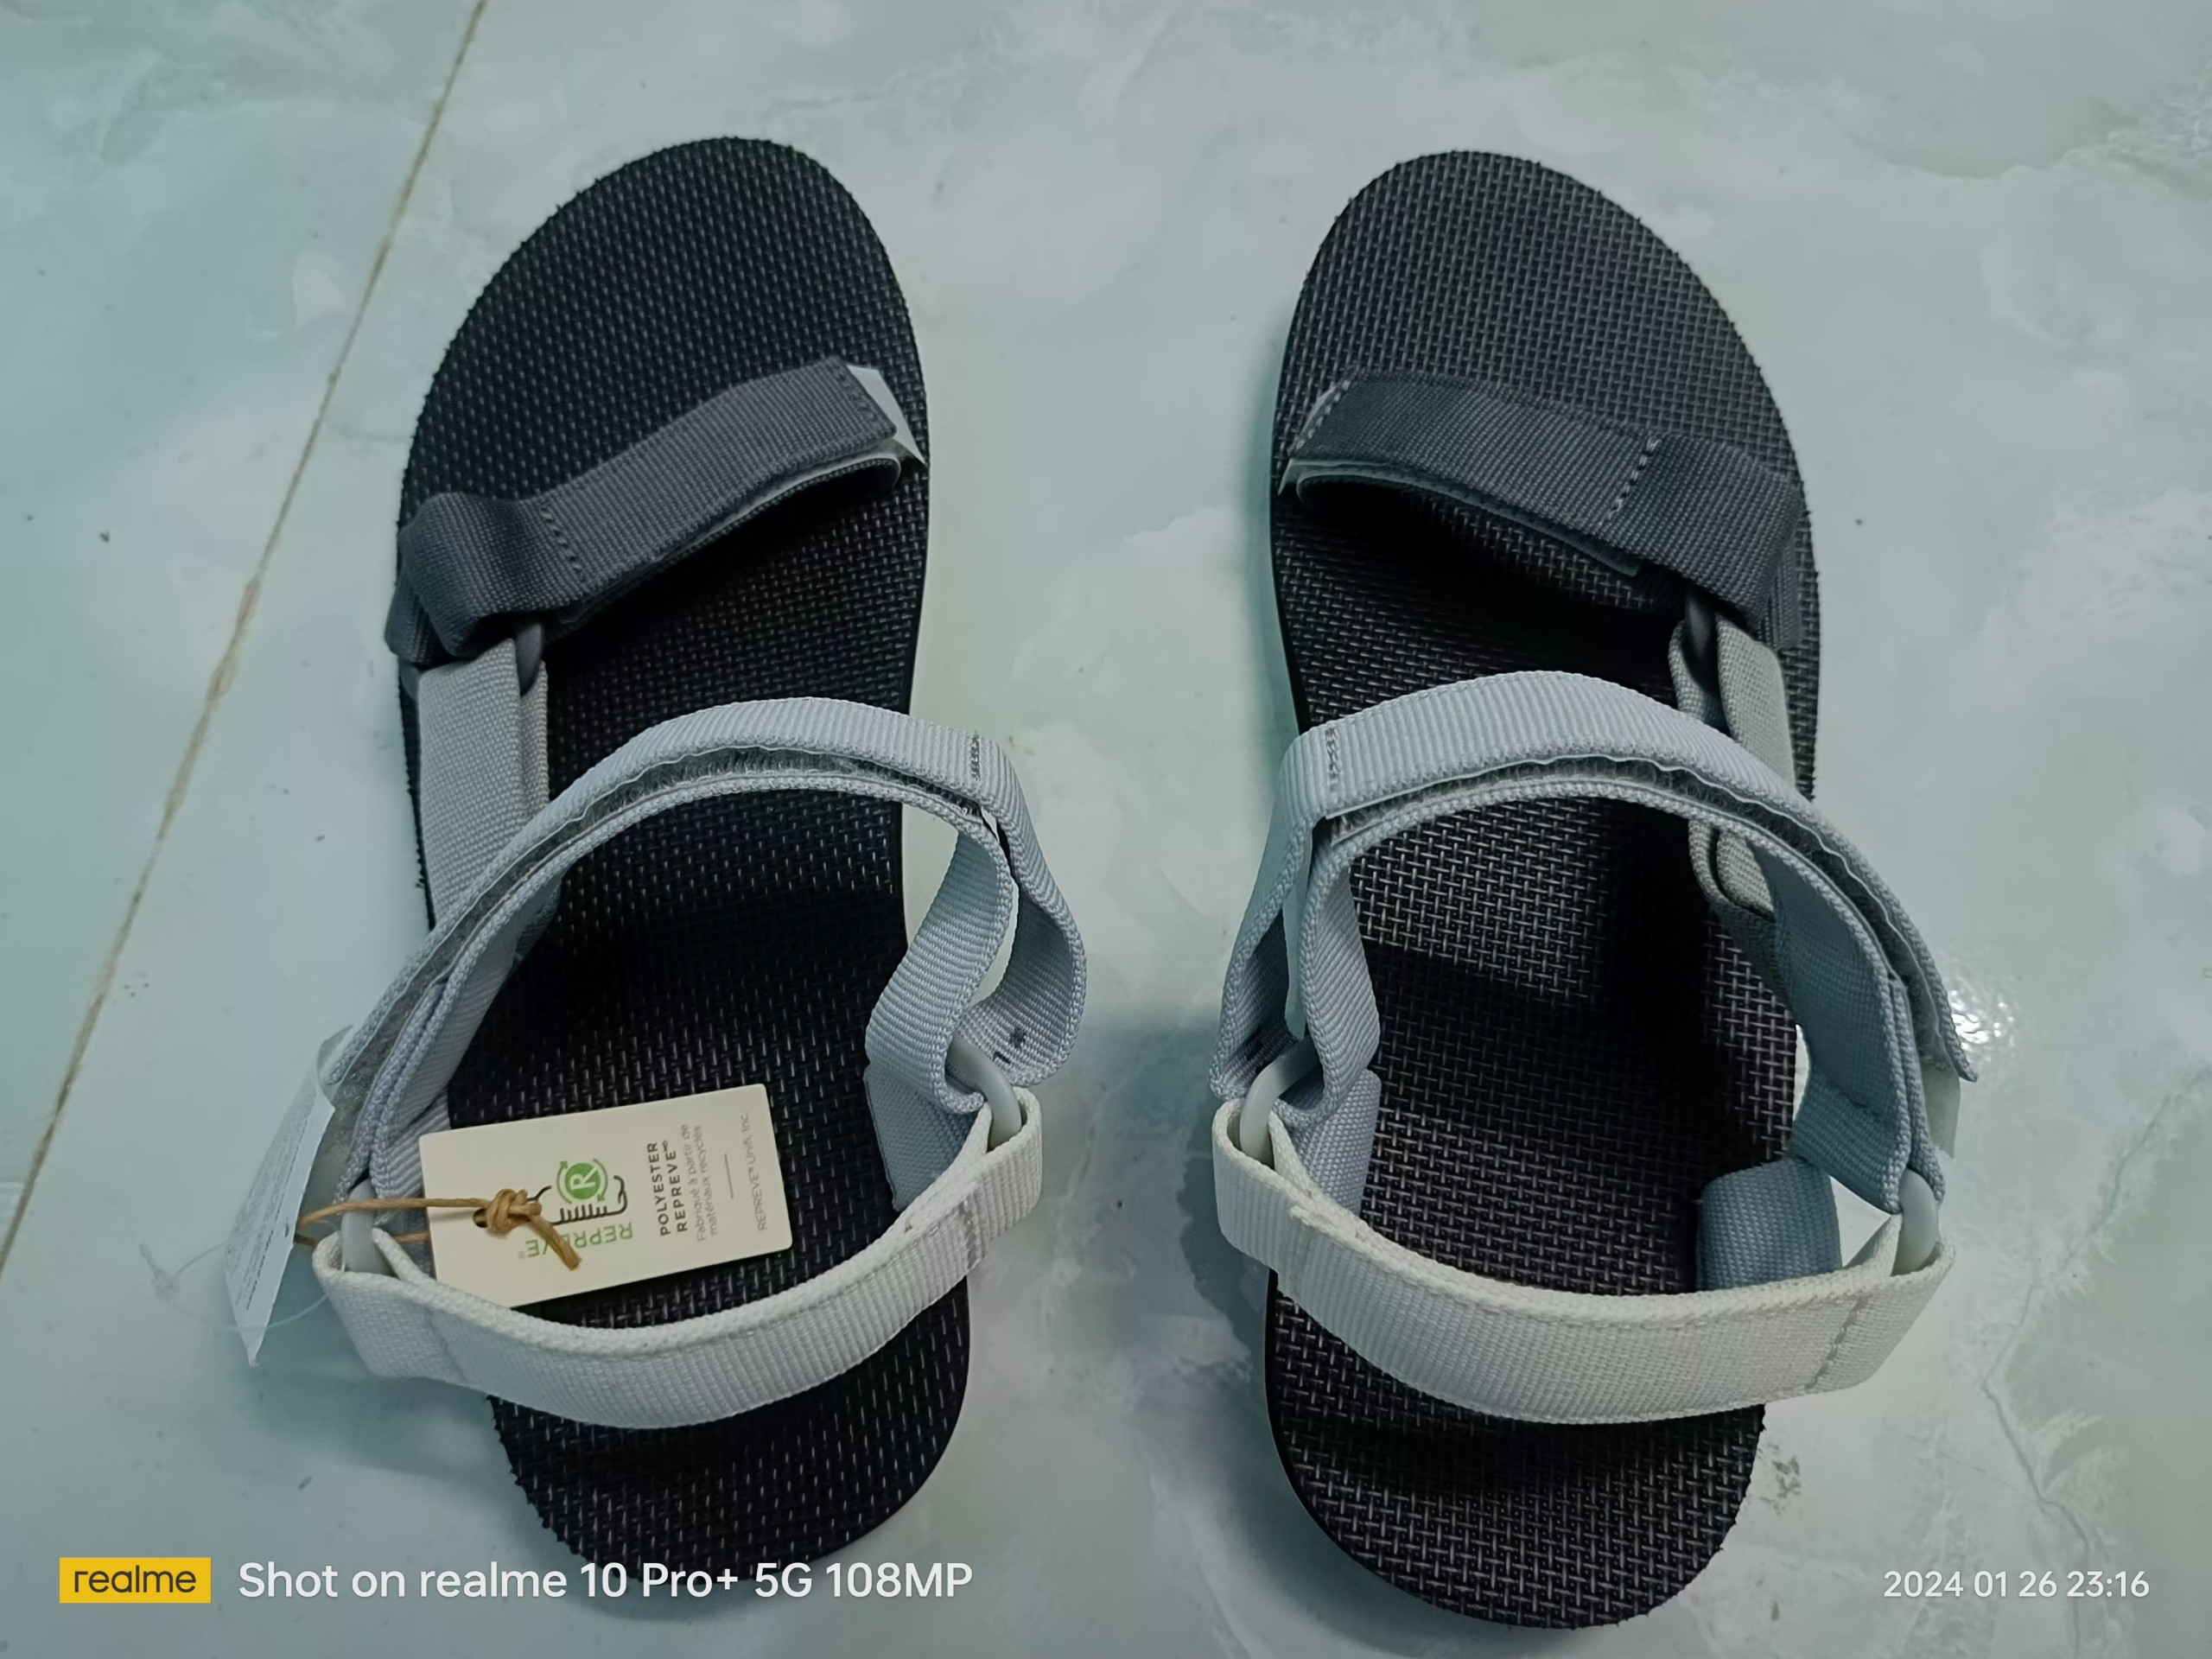sandals: (298, 132, 1087, 1586), (1204, 150, 1972, 1633)
